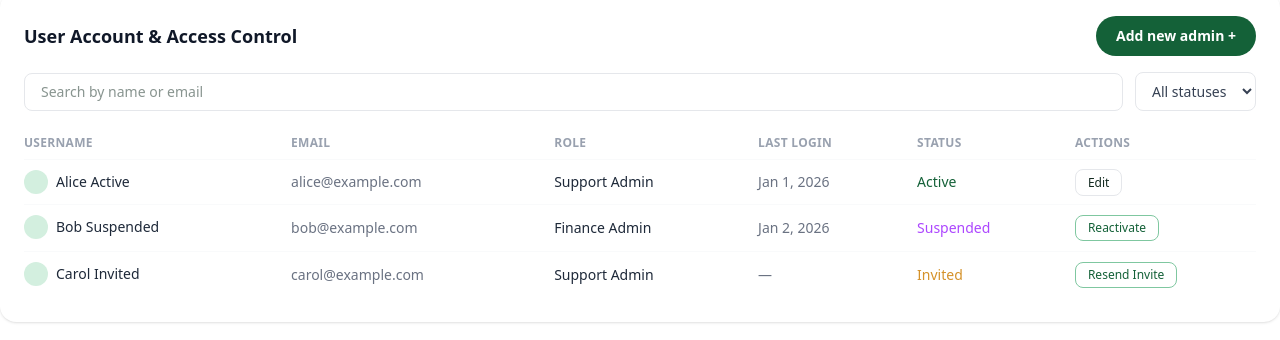
Test: UserManagementTable › filters by status
This screenshot has width=1280, height=340.
Select "Suspended" in the dropdown showing "All statuses" at (1196, 92), box [1135,72,1256,111]
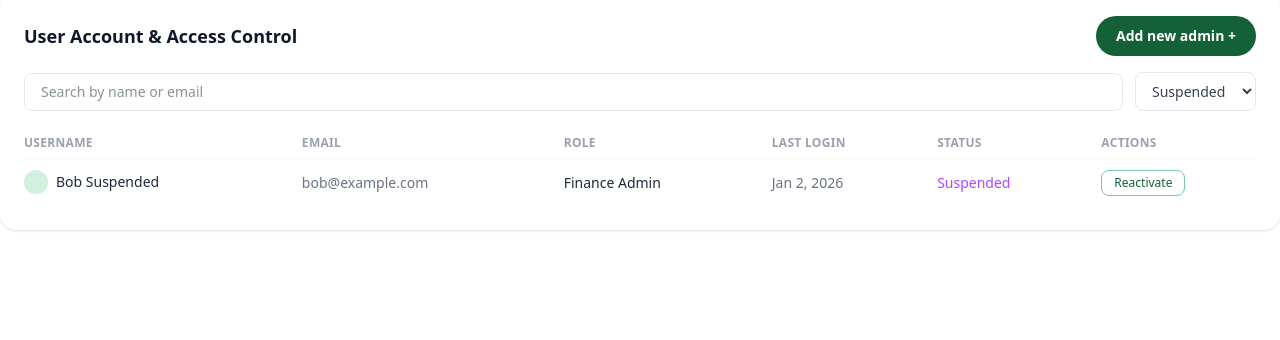
Expected: the text "Bob Suspended" is shown, [24,160,302,204]
Expected: the text "Alice Active" is gone
Expected: the text "Carol Invited" is gone
